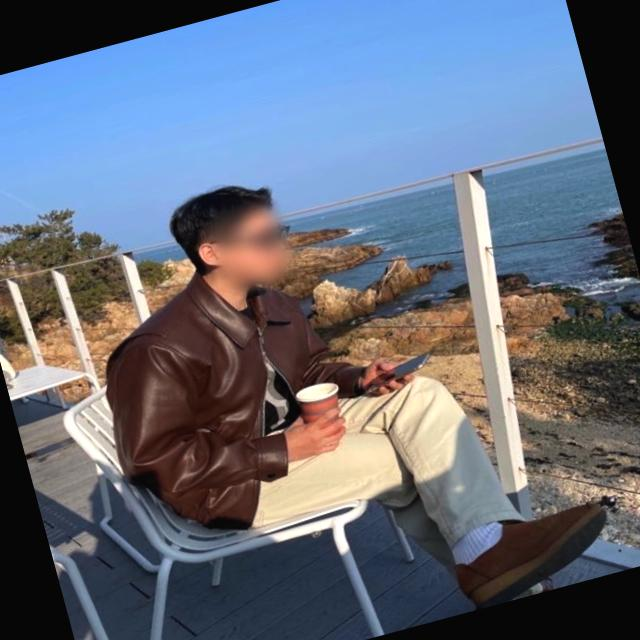cottonpants: (220, 355, 523, 615)
jacket: (82, 240, 398, 554)
